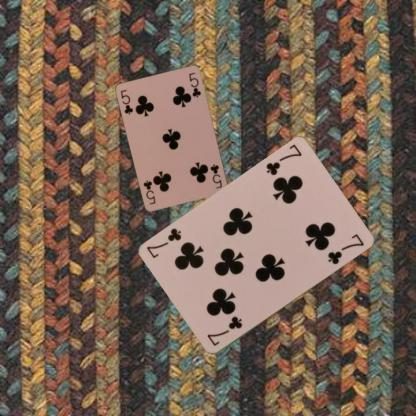5c: (118, 87, 134, 116), (208, 162, 224, 190)
7c: (263, 142, 303, 178), (204, 314, 244, 348)
